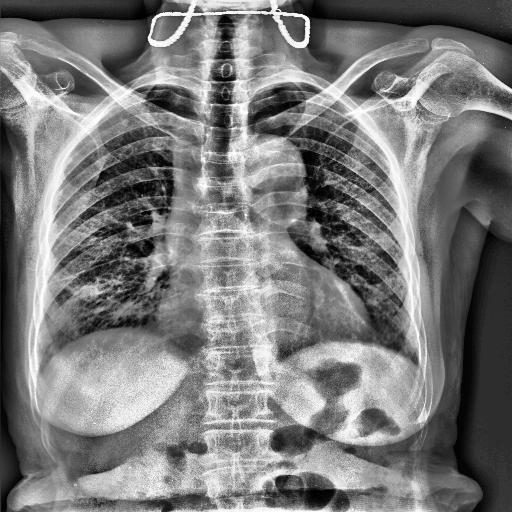0- Aortic enlargement: (228, 133, 308, 205), (241, 134, 302, 207), (248, 132, 306, 196)
11- Pleural thickening: (256, 80, 292, 94), (166, 84, 192, 93)
3- Cardiomegaly: (147, 289, 368, 351), (154, 282, 378, 342), (154, 296, 376, 348)
